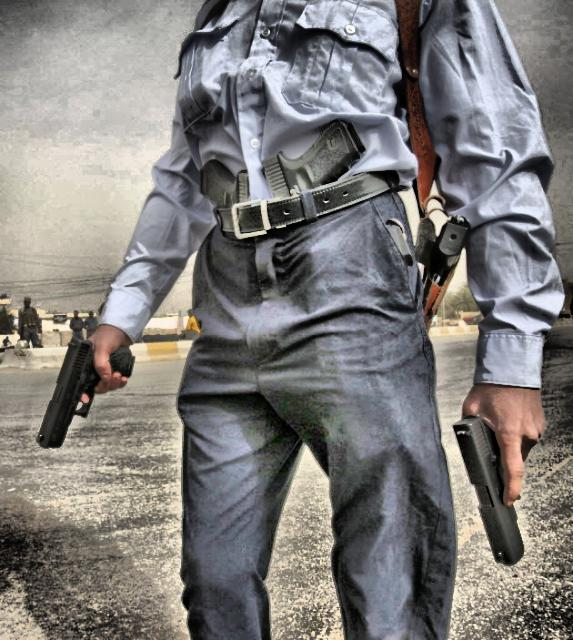pistol: (249, 119, 366, 274), (454, 380, 538, 580), (27, 331, 139, 467), (196, 154, 260, 294), (412, 211, 480, 317)
